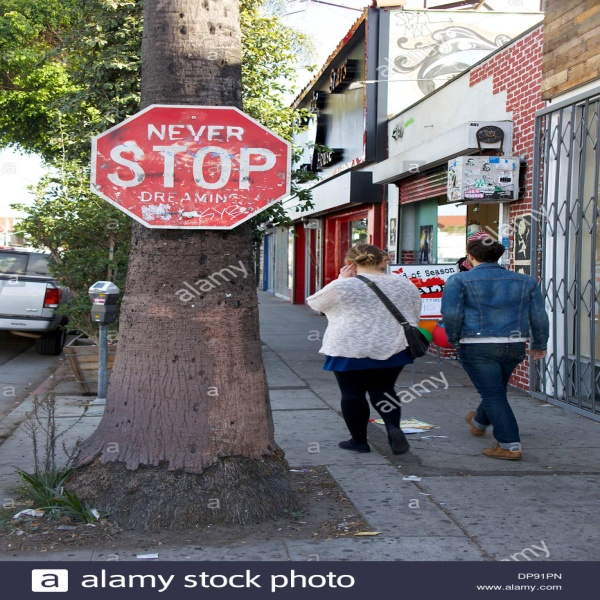stop: (88, 109, 290, 224)
